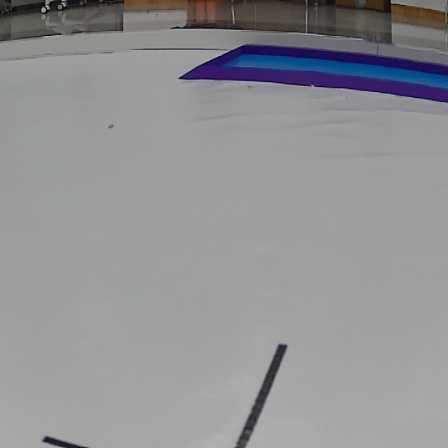blue_aim: (183, 44, 448, 104)
